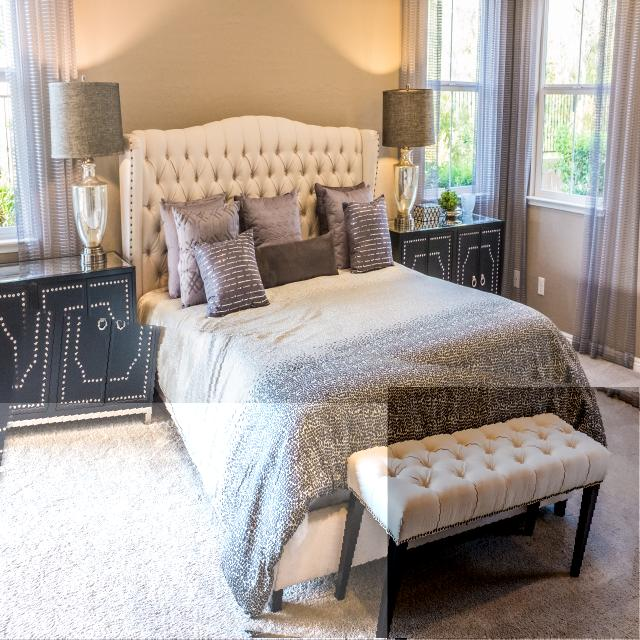floor: (0, 404, 387, 639), (388, 387, 640, 639)
